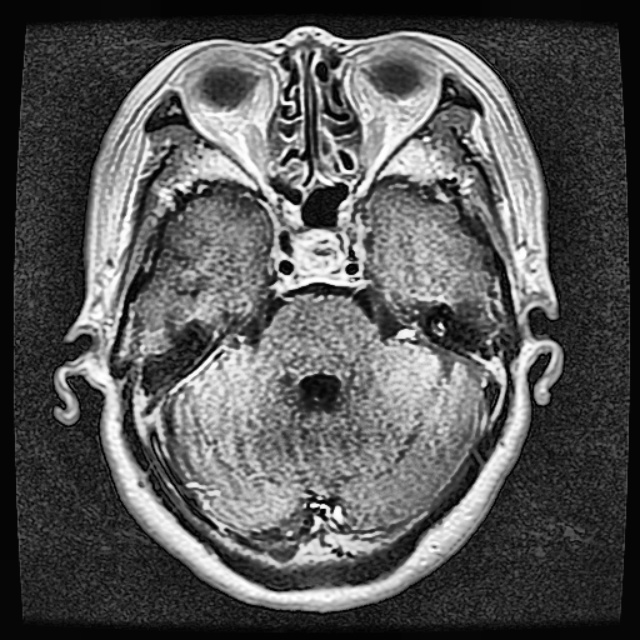Pituitary: (294, 229, 343, 270)
